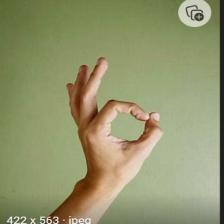five: (63, 57, 166, 186)
